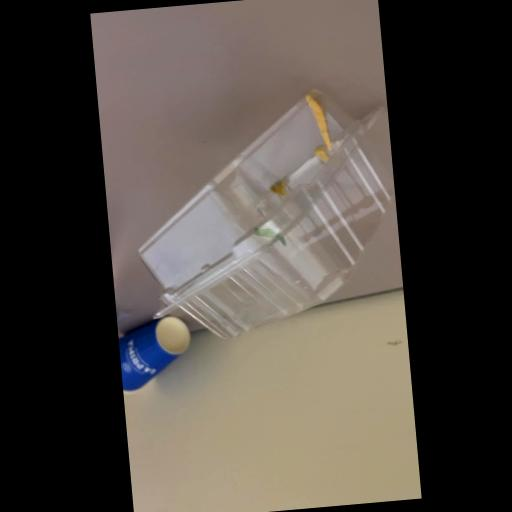lp_paper_cup: (118, 314, 196, 394)
small_plastic_container: (119, 80, 404, 351)
